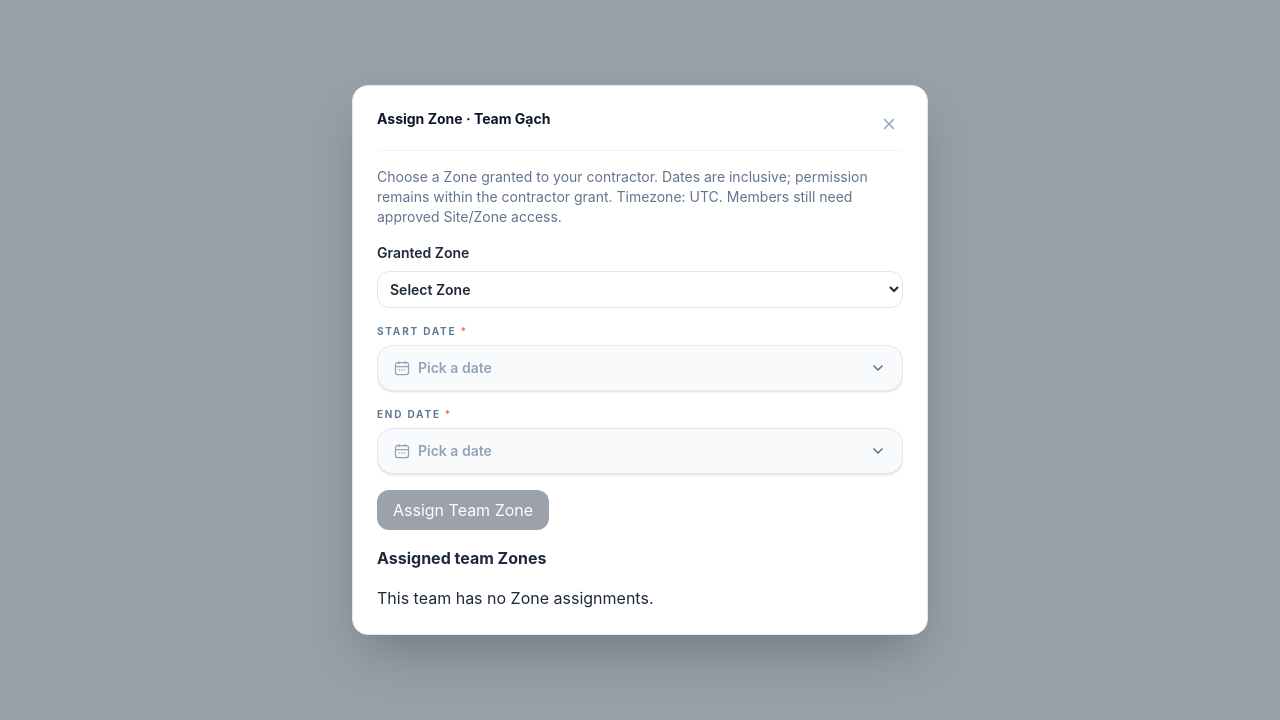
Test: loads only granted Zones, formats dates and retains request ID through failed assignment/retry
Select "Gạch · 12/10/2026 – 13/10/2026" in the dropdown labelled "Granted Zone" at (640, 290), box [377, 271, 903, 308]
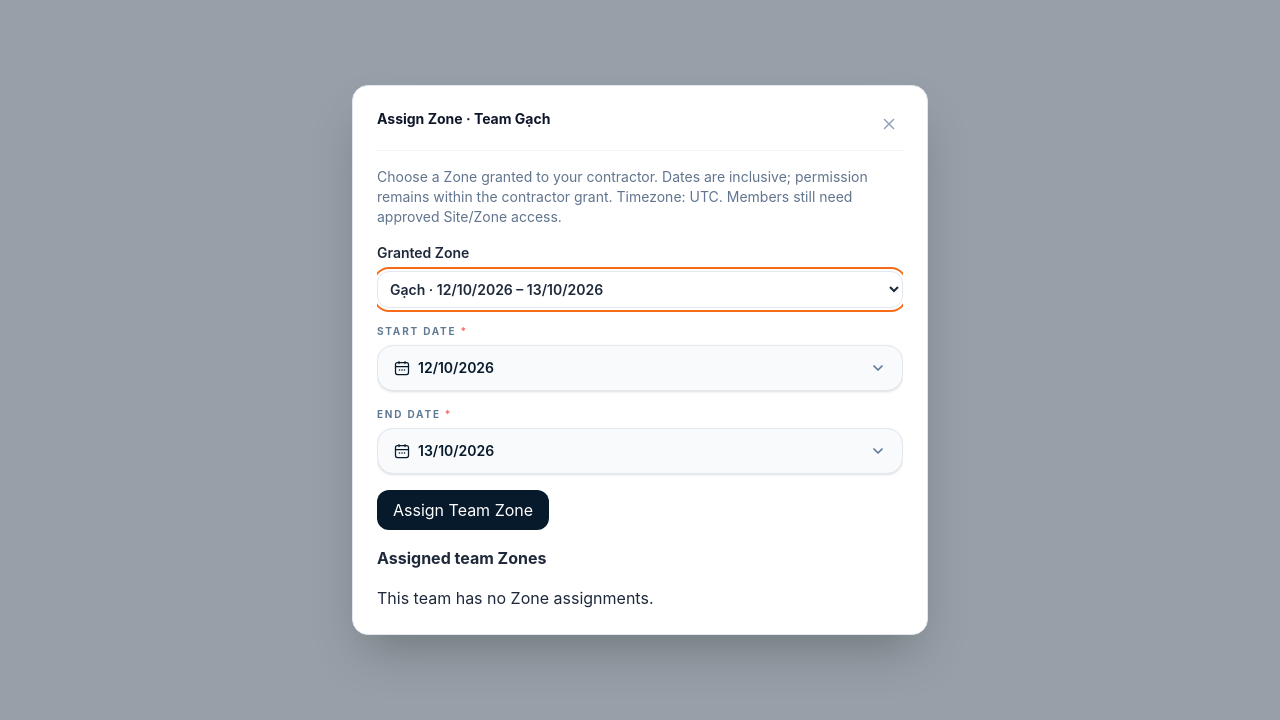
Expected: the button named "Start date" reads "12/10/2026", [377, 345, 903, 391]
Expected: the button named "End date" reads "13/10/2026", [377, 428, 903, 474]
Click the button "Assign Team Zone" at (463, 510), box [377, 490, 549, 530]
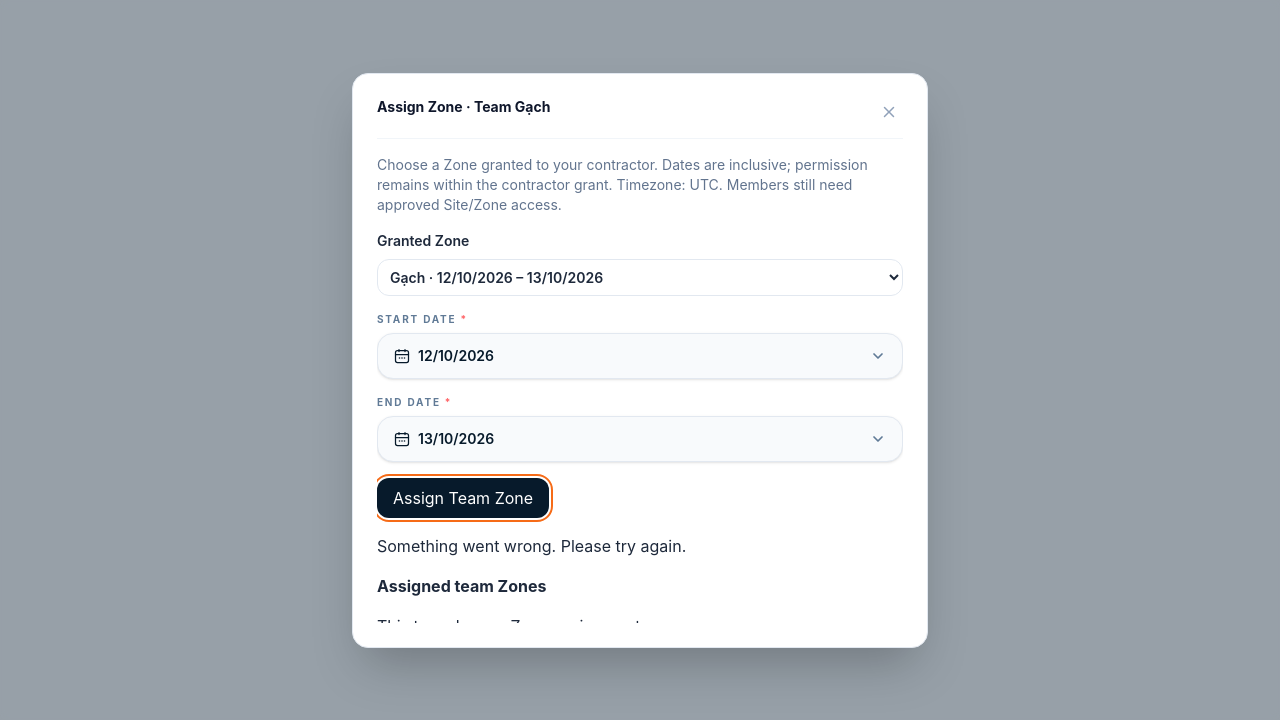
Expected: the text "Something went wrong. Please try again." is shown, [377, 536, 686, 556]
Click the button "Assign Team Zone" at (463, 498), box [377, 478, 549, 518]
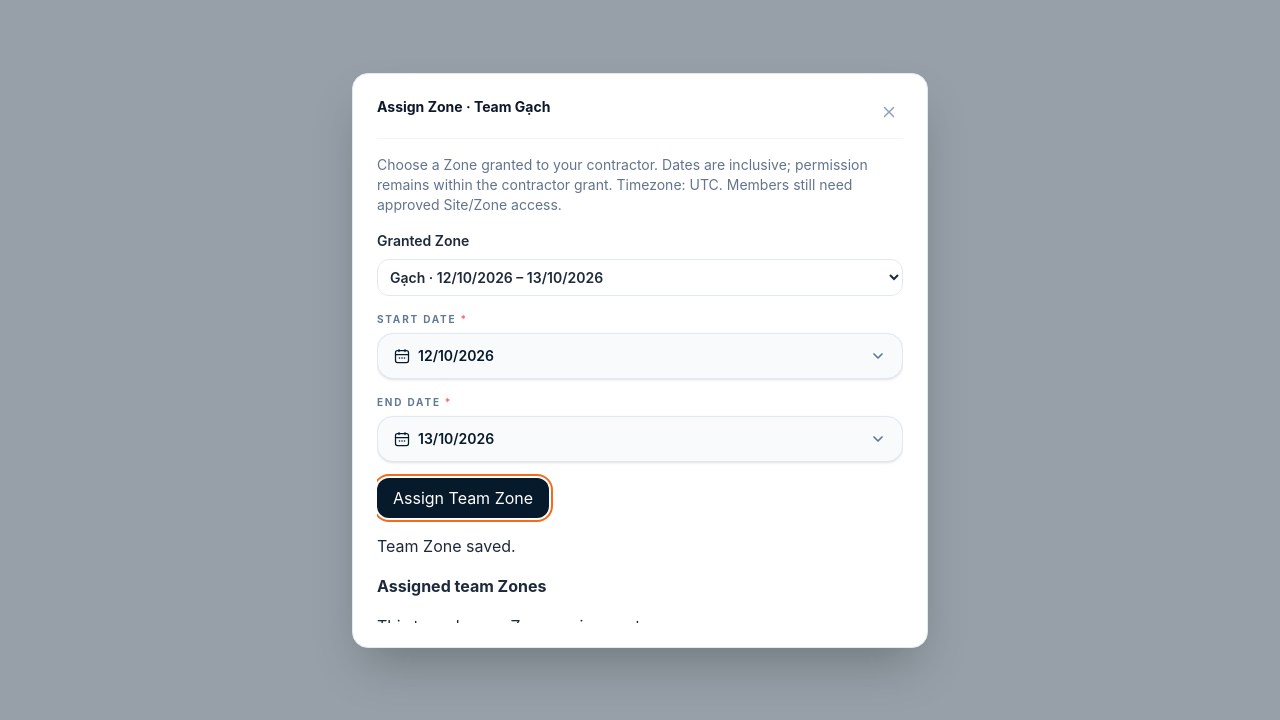
Expected: the text "Team Zone saved." is shown, [377, 536, 516, 556]
